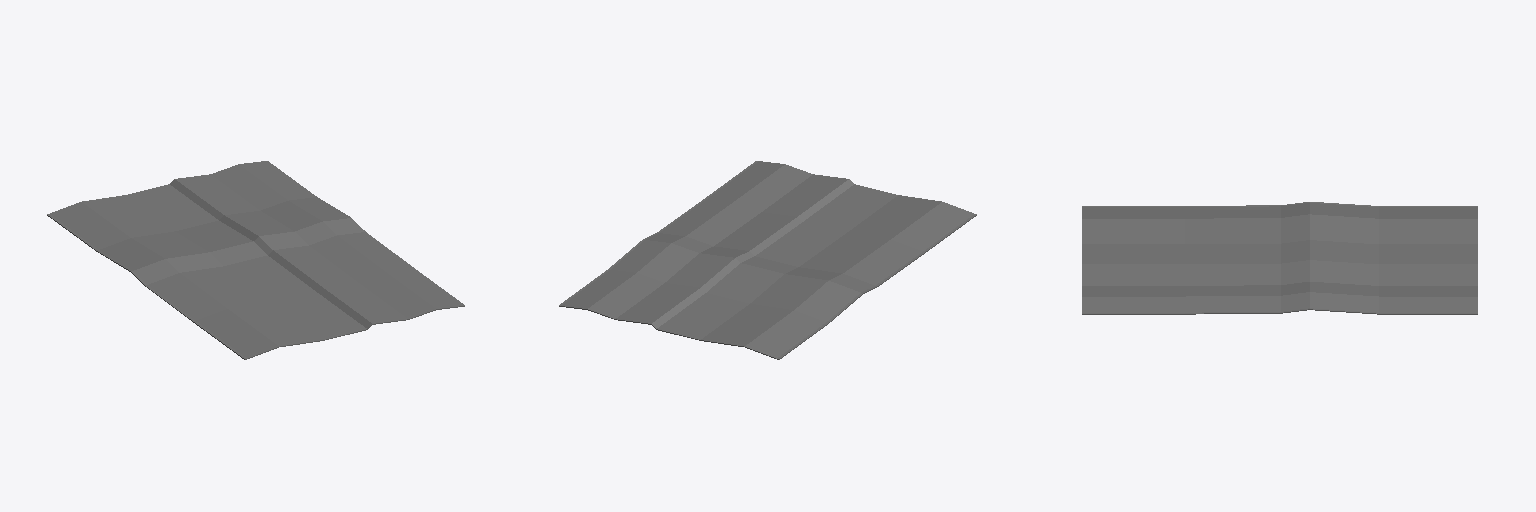
Rendered from Carpet.obj.
3 views of the same model, side by side, from view 1: azimuth 30°, elevation 25°; view 2: azimuth 150°, elevation 25°; view 3: azimuth 270°, elevation 25° (orthographic).
Parts seen in each view (by area): view 1: carpet_test; view 2: carpet_test; view 3: carpet_test.
Part boxes in pixels (x1,y1,x2,y2): carpet_test: (47,161,464,359); carpet_test: (559,161,976,359); carpet_test: (1082,202,1477,314).
Bounding box in the file's own units: 45.33 × 1.87 × 70.49.